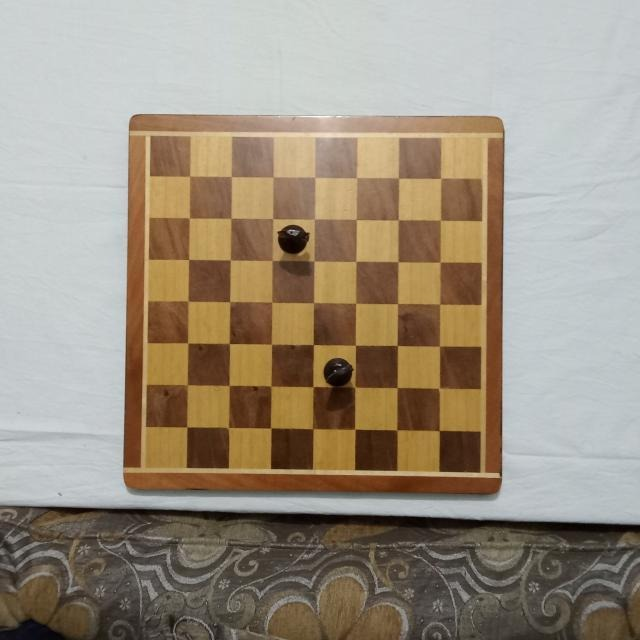black-knight: (276, 223, 311, 255), (321, 356, 354, 388)
